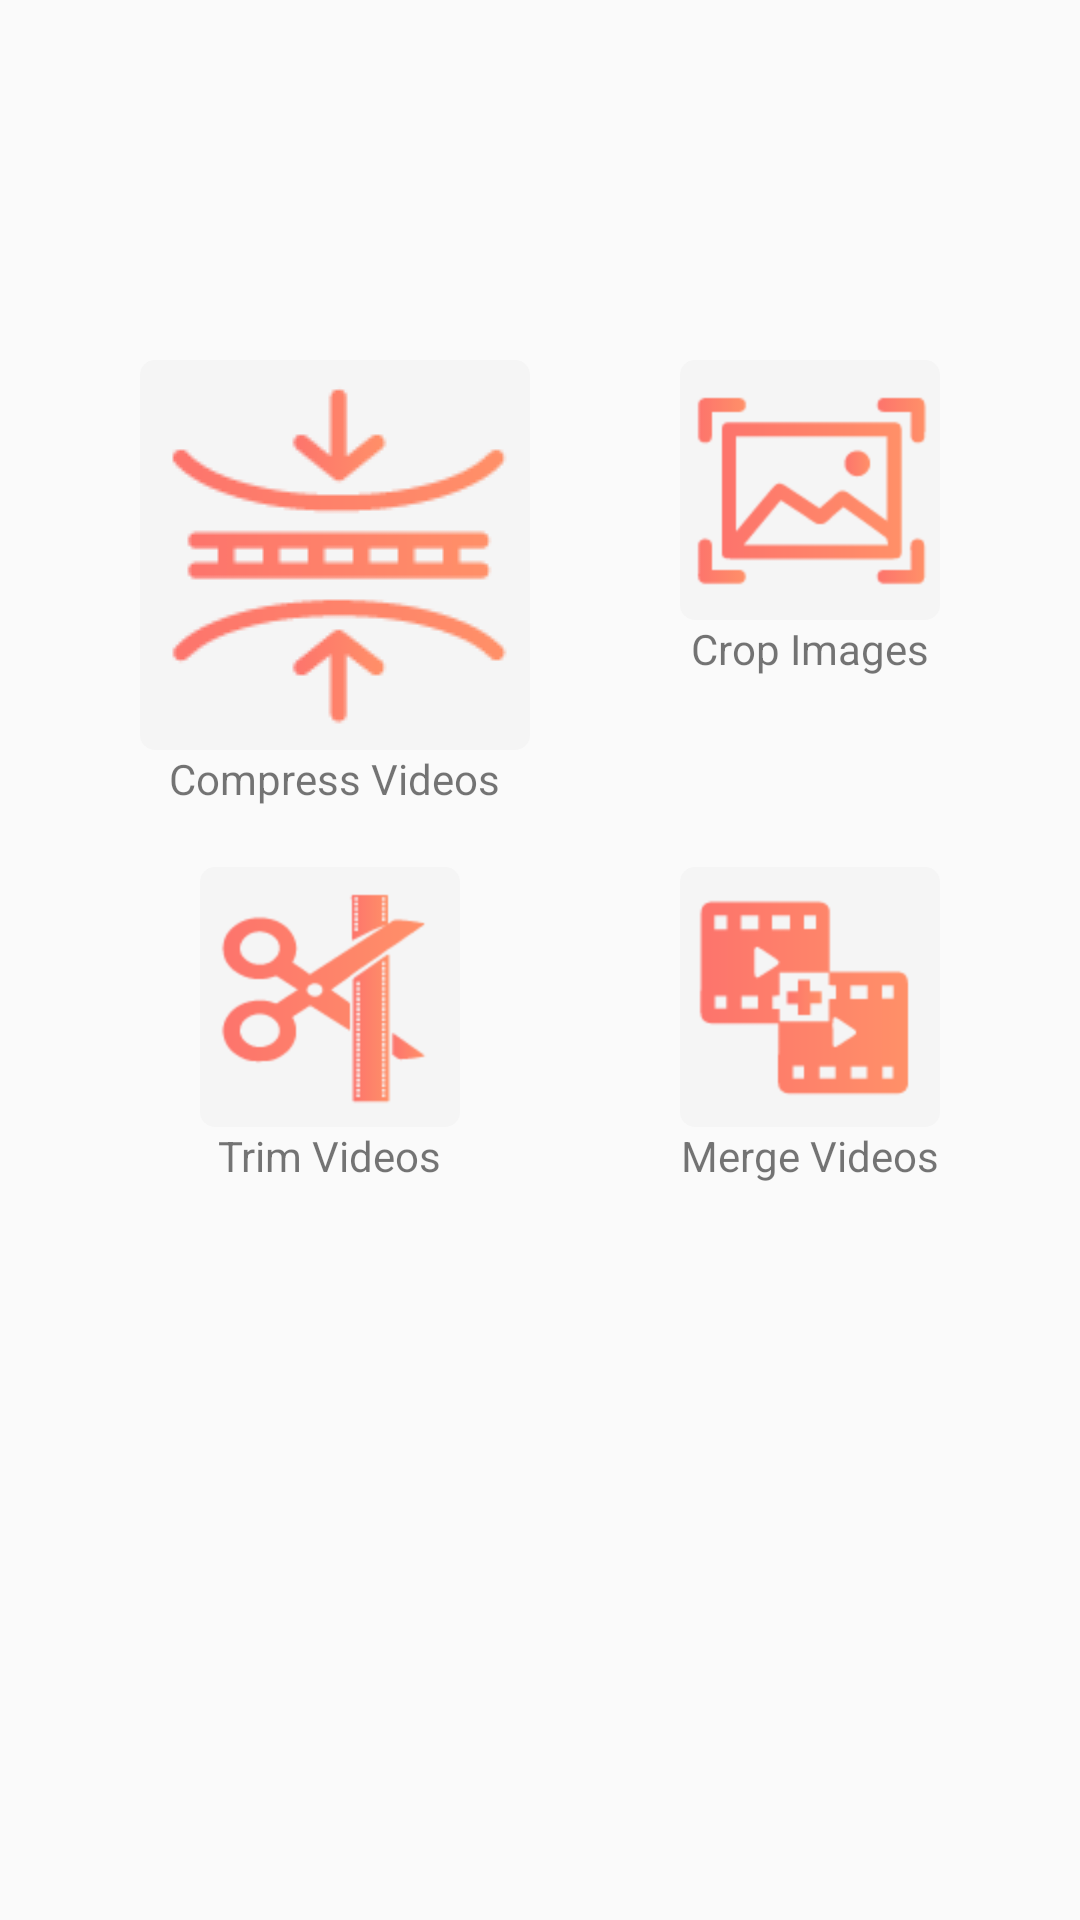

Icons on this 1080x1920 Android screen, each with its box as box(x1, y1, x2, y2):
compressimg: box(172, 389, 506, 724)
editvideos: box(222, 894, 425, 1103)
